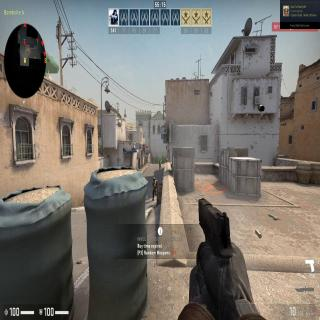CT-Body: (152, 176, 157, 195), (159, 159, 161, 168)
CT-Head: (153, 177, 155, 180), (160, 160, 160, 162)
